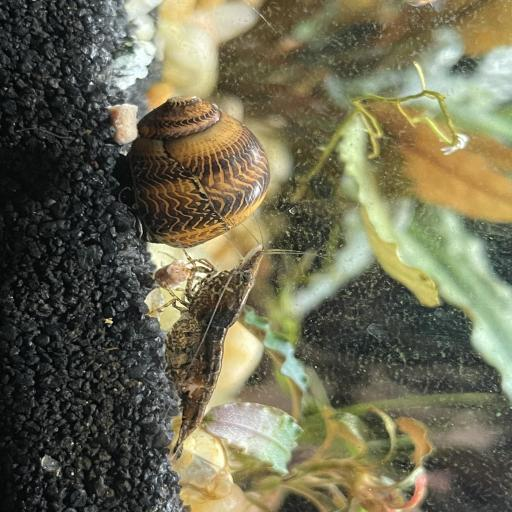Shrimp: (146, 251, 282, 462)
Snail: (112, 87, 283, 261)
